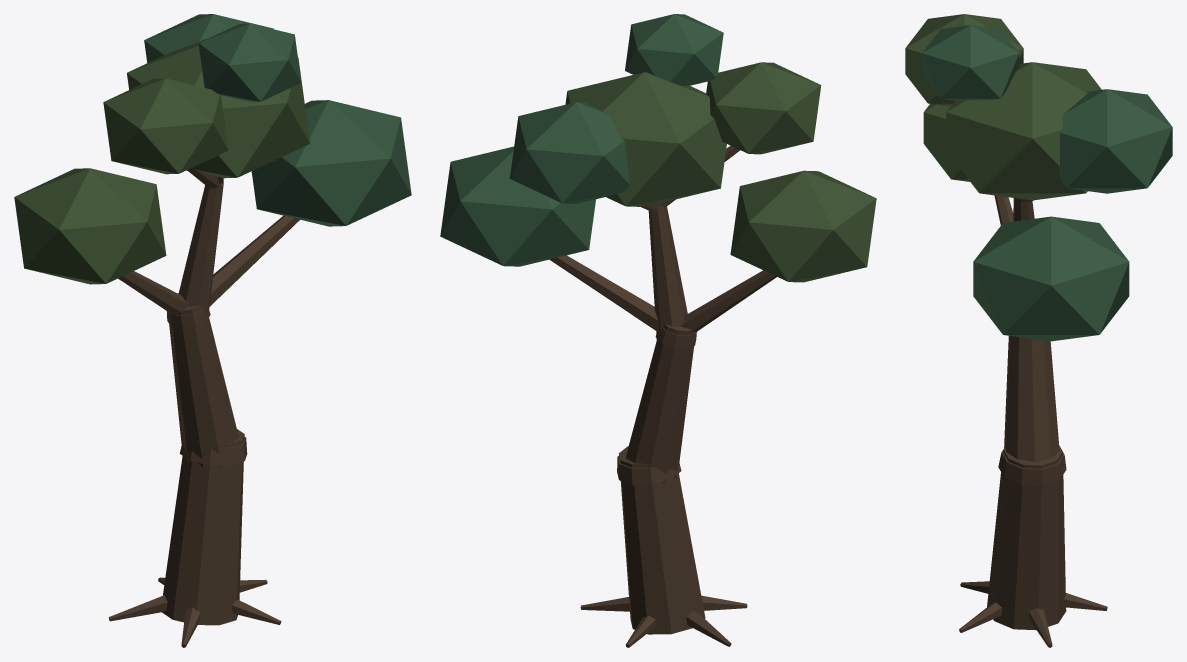
The model's file is env_tree_gnarled.glb.
The picture shows the model from 3 angles, left to right: view 1: azimuth 30°, elevation 25°; view 2: azimuth 150°, elevation 25°; view 3: azimuth 270°, elevation 25°; orthographic projection. The views are drawn at different scales.
Visible parts, largest first — view 1: env_tree_gnarled; view 2: env_tree_gnarled; view 3: env_tree_gnarled.
Boxes of the visible parts, x1,y1,x2,y2 form: env_tree_gnarled: (14, 14, 411, 647); env_tree_gnarled: (440, 14, 876, 647); env_tree_gnarled: (905, 14, 1172, 647).
Size of the model in its own units: 3.72 by 5.33 by 2.15.
